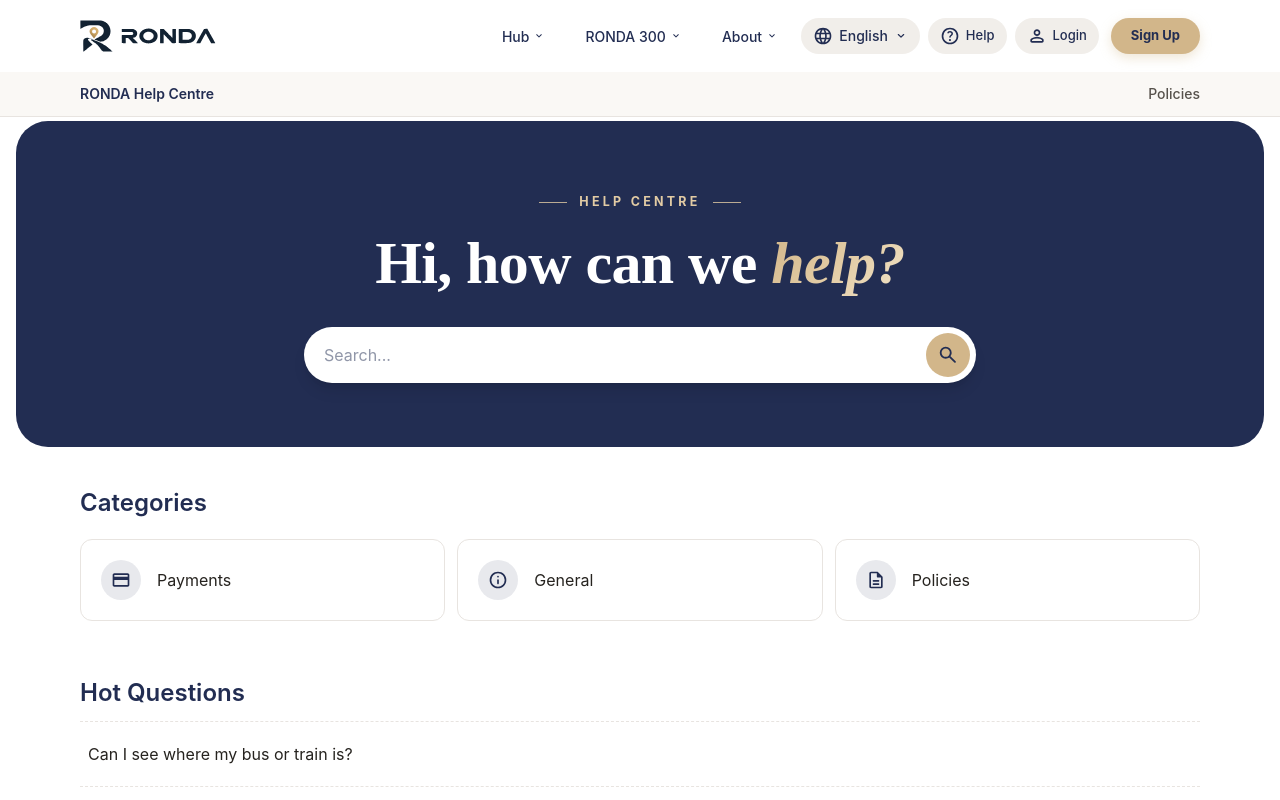
Scenario: Help Centre › search finds articles with a typo and says when nothing matches
Type "acount" into the search field at (621, 355), box [324, 333, 918, 377]
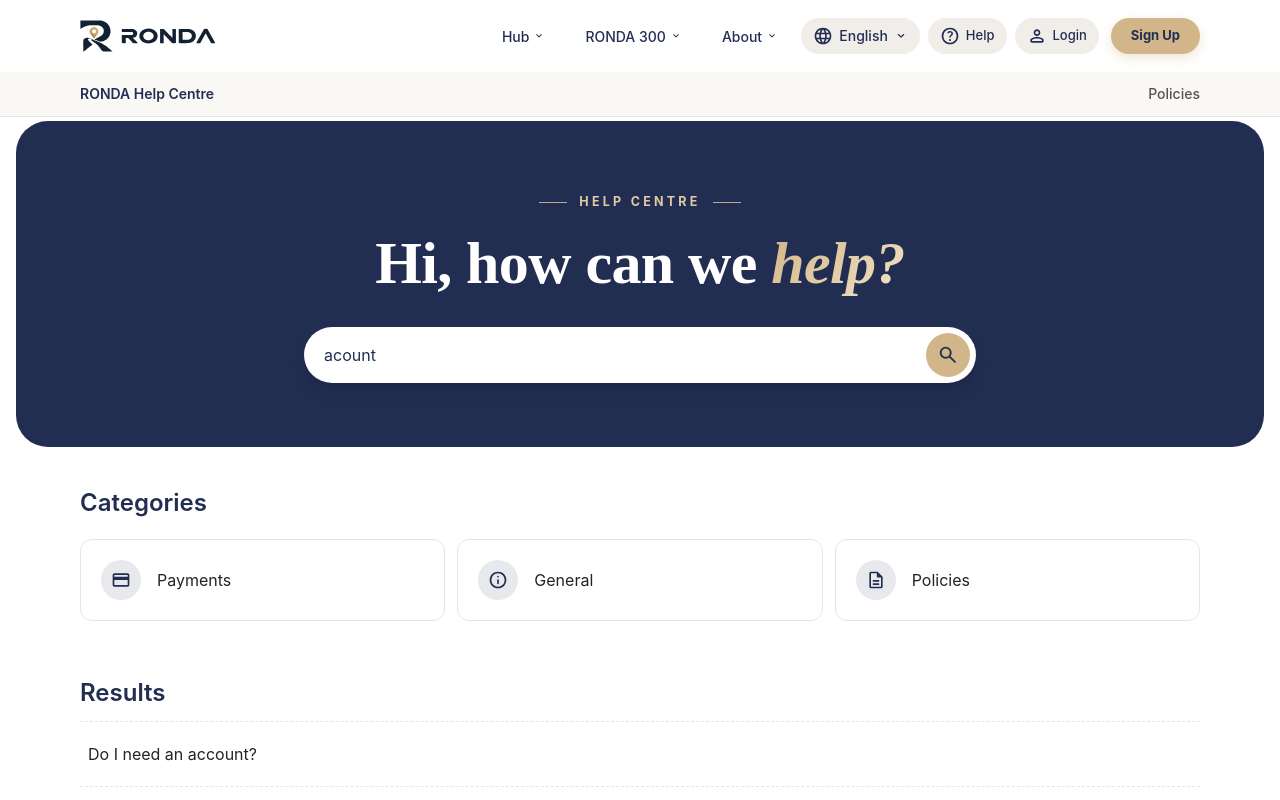
Replace the text in the search field with "zzqqxx" at (621, 355), box [324, 333, 918, 377]
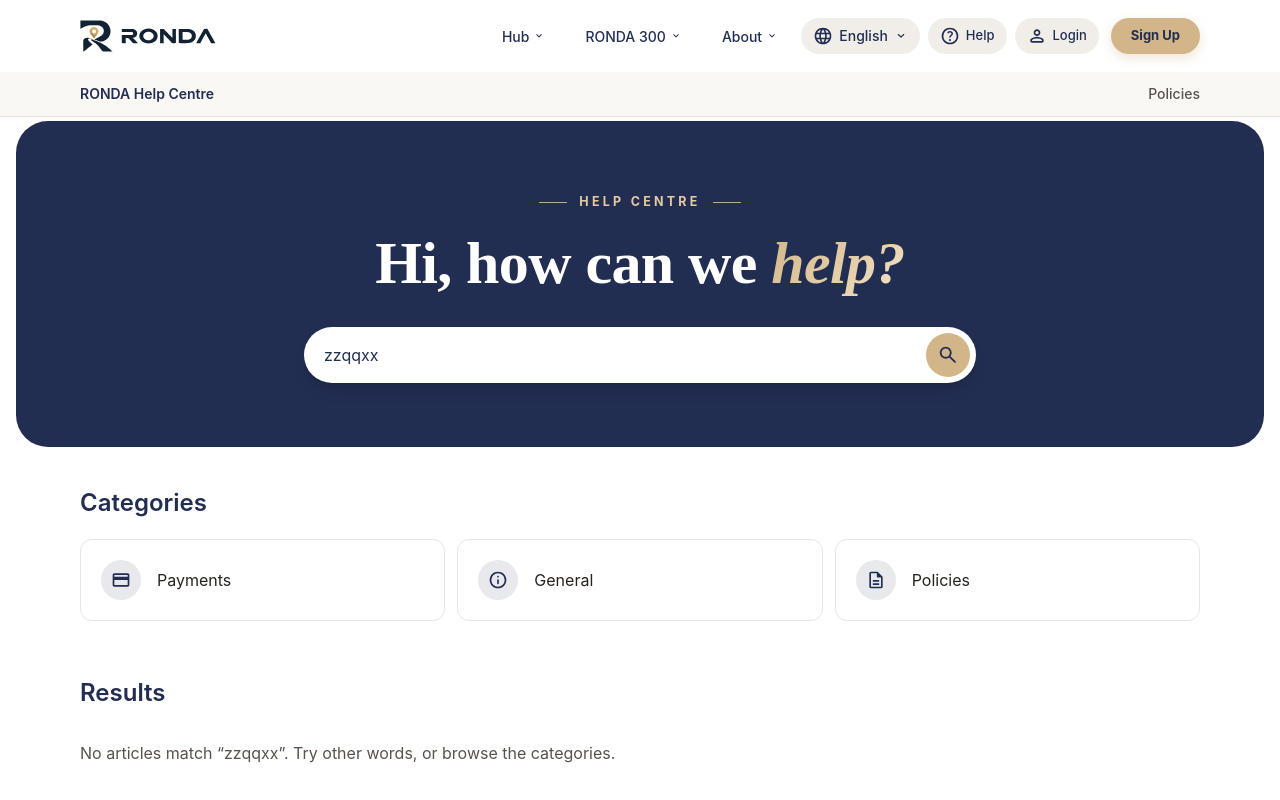
Now the text "No articles match" is shown, box [80, 743, 615, 763]
